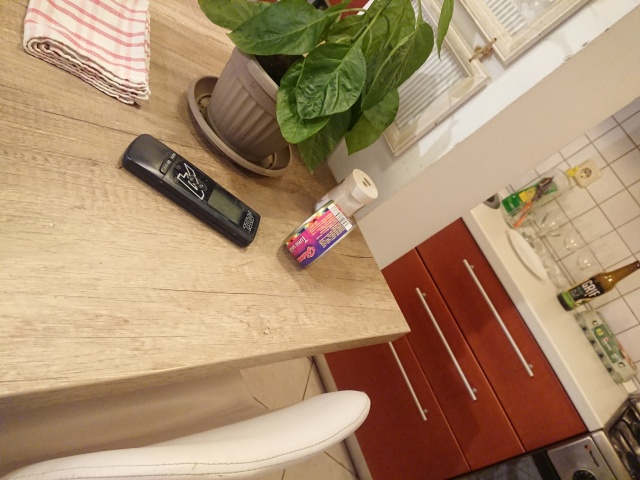Giana Tuna Salad Mexico 185g: (281, 197, 358, 273)
